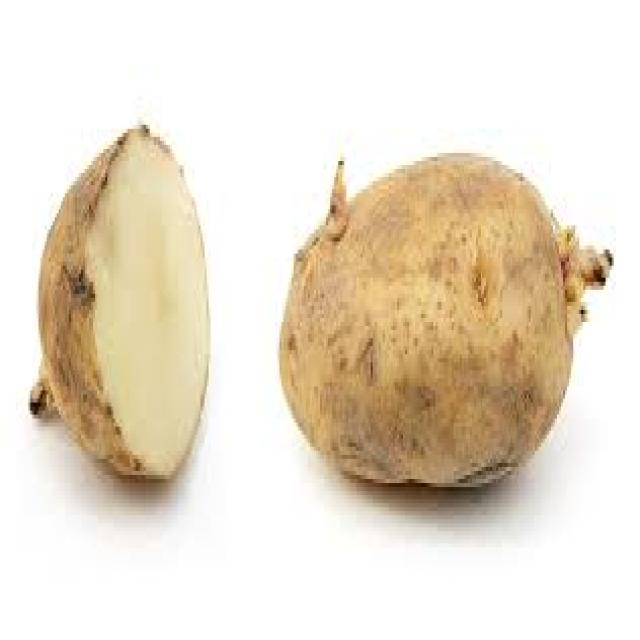Wet Waste: (27, 83, 624, 520)
